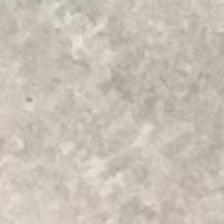Non_Crack: (2, 21, 224, 195)
